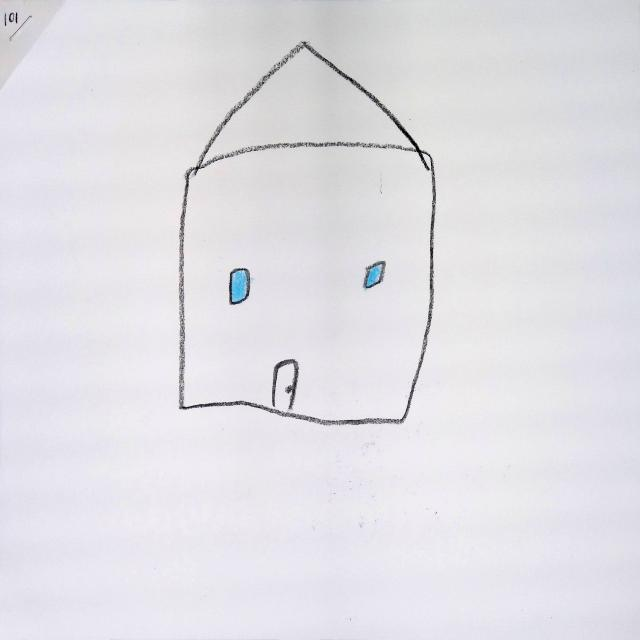door: (272, 359, 299, 411)
house: (180, 42, 435, 425)
roof: (189, 40, 431, 173)
wall: (176, 145, 439, 427)
window: (230, 268, 250, 304), (364, 261, 387, 289)
